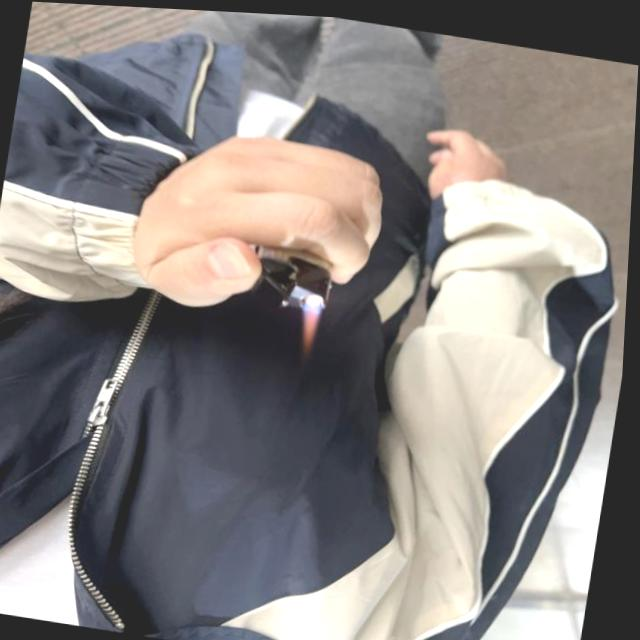Fire: (299, 293, 327, 347)
